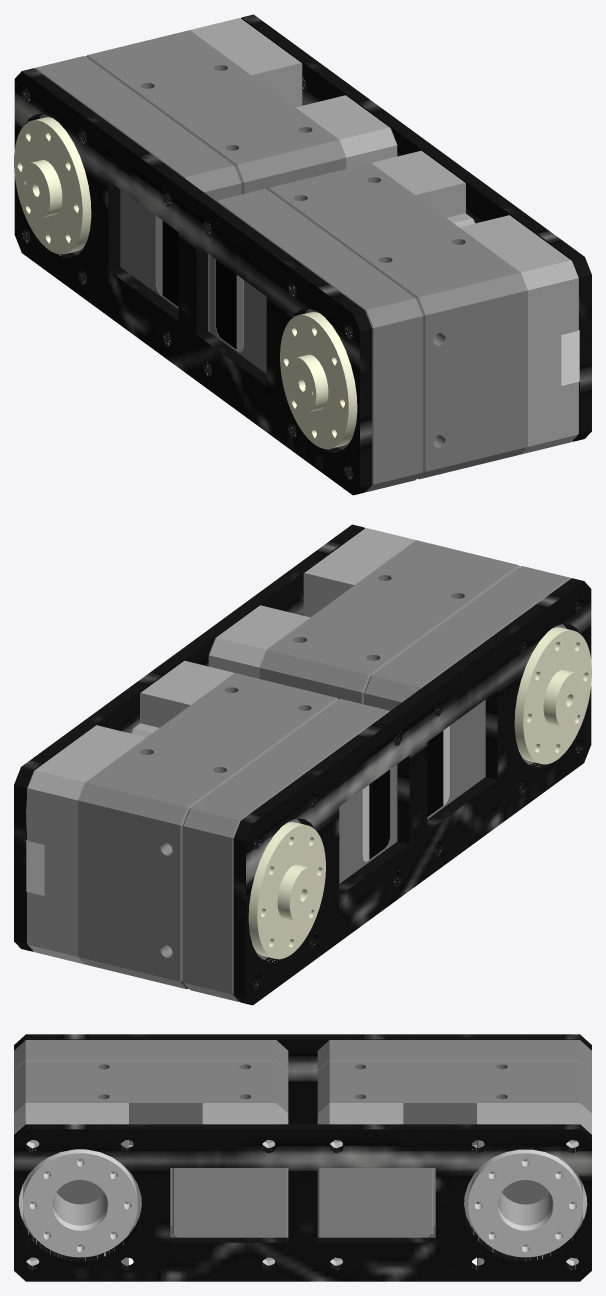
3 renders of one model, top to bottom at view 1: azimuth 30°, elevation 25°; view 2: azimuth 150°, elevation 25°; view 3: azimuth 270°, elevation 25°, orthographic. The views are drawn at different scales.
Visible parts, largest first — view 1: mesh_7_XM430-W350-R-1_XM430-W350-R_step-1_Part_13_step-1-sol; view 2: mesh_7_XM430-W350-R-1_XM430-W350-R_step-1_Part_13_step-1-sol; view 3: mesh_7_XM430-W350-R-1_XM430-W350-R_step-1_Part_13_step-1-sol.
Boxes of the visible parts, bbox=[...] form: mesh_7_XM430-W350-R-1_XM430-W350-R_step-1_Part_13_step-1-sol: bbox=[14, 14, 591, 495]; mesh_7_XM430-W350-R-1_XM430-W350-R_step-1_Part_13_step-1-sol: bbox=[14, 524, 591, 1005]; mesh_7_XM430-W350-R-1_XM430-W350-R_step-1_Part_13_step-1-sol: bbox=[14, 1034, 591, 1281].
Bounding box in the file's own units: 0.041 × 0.098 × 0.0285.
7 materials, 1 textured.
